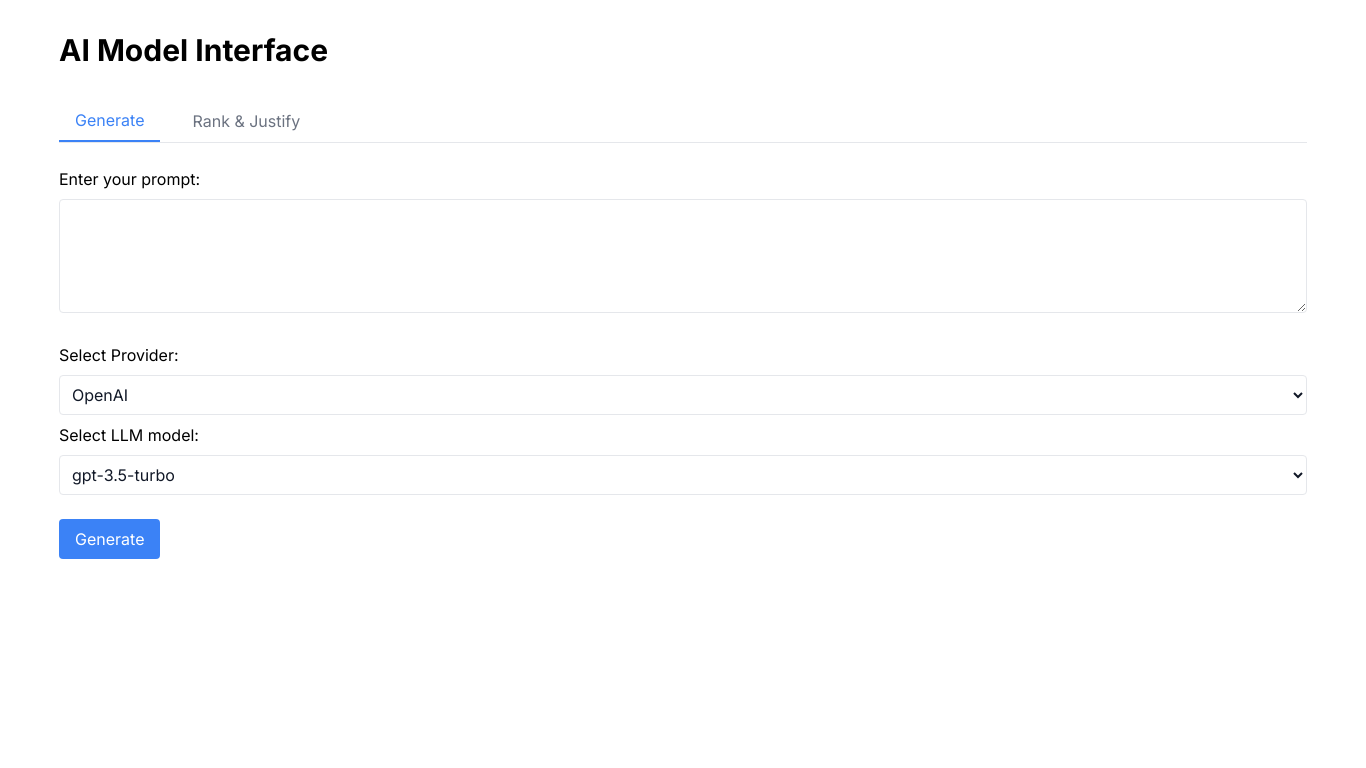
Test case: Home component › handles API error
Expected: the dropdown labelled "Select Provider:" shows "OpenAI", [59,375,1307,415]
Expected: the dropdown labelled "Select LLM model:" shows "gpt-3.5-turbo", [59,455,1307,495]
Type "Test prompt" into the text box labelled "Enter your prompt:" at (683, 256), box [59,199,1307,313]
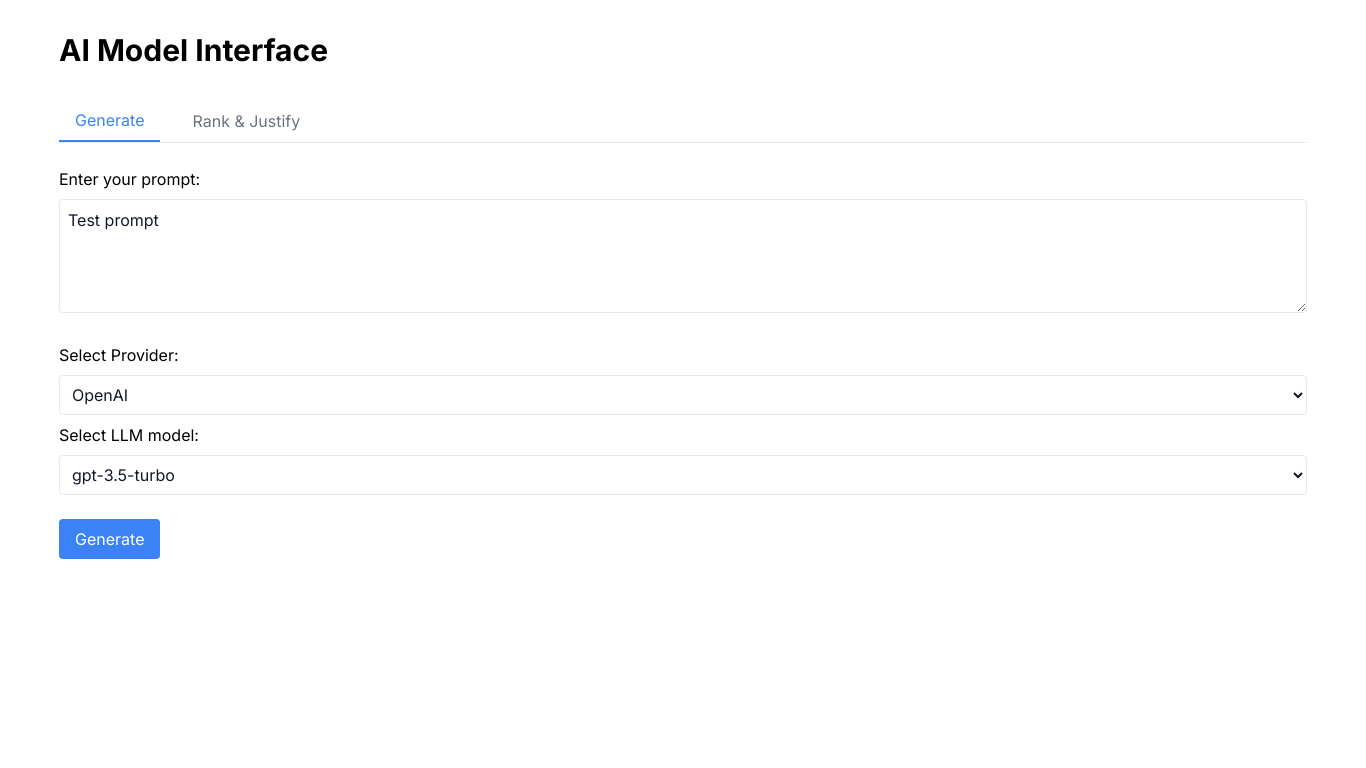
Click the button "Generate" below "Select LLM model:" at (110, 539), box [59,519,160,559]
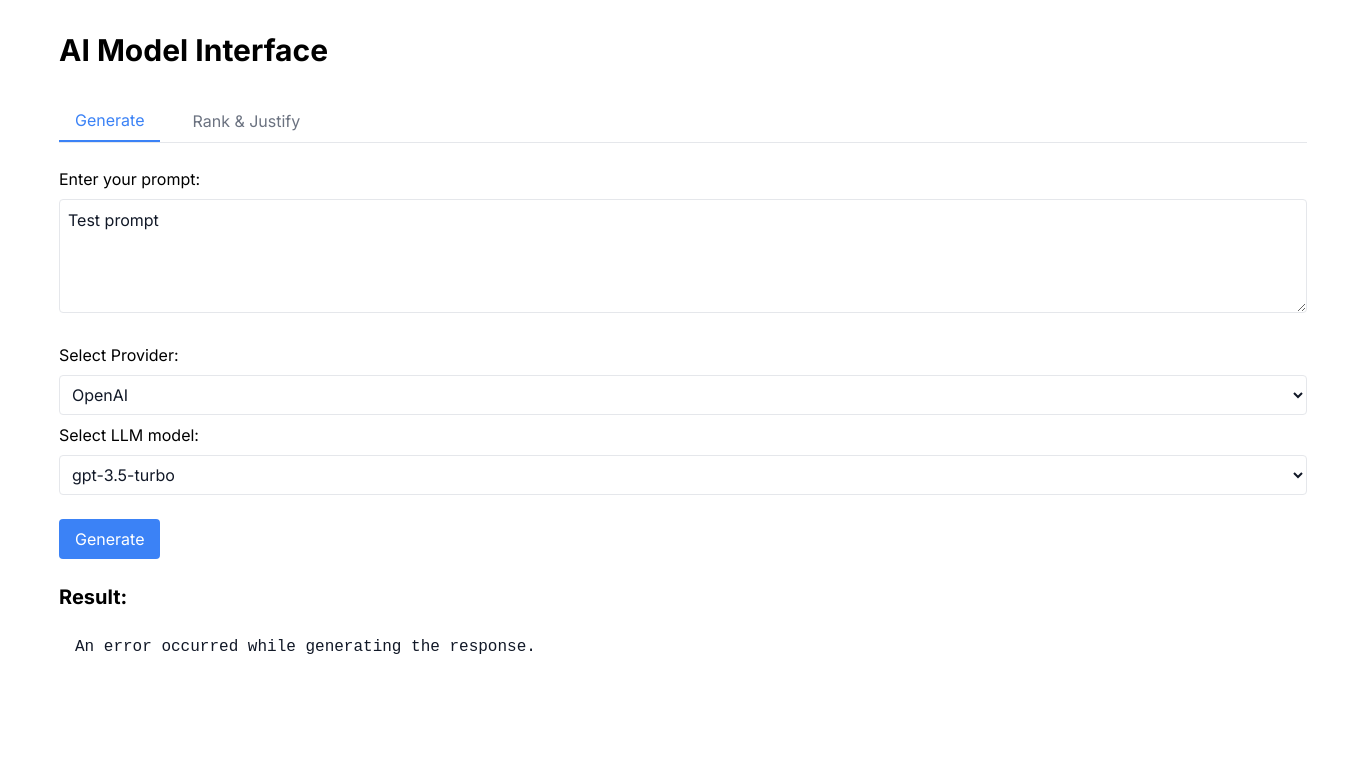
Expected: the text "An error occurred while generating the response." is shown, [59,619,1307,675]
